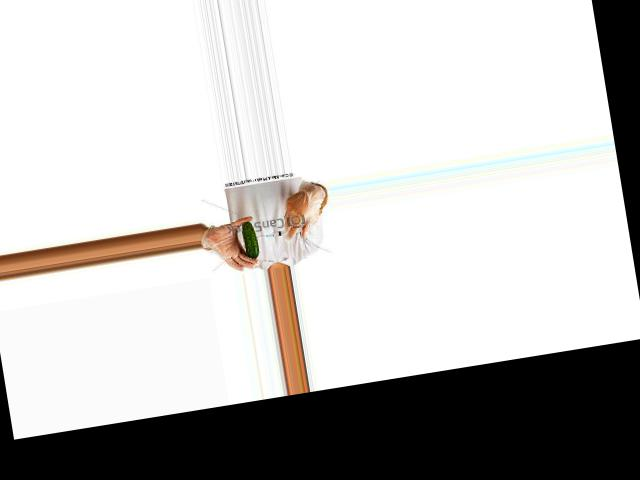cucumber: (239, 219, 259, 259)
